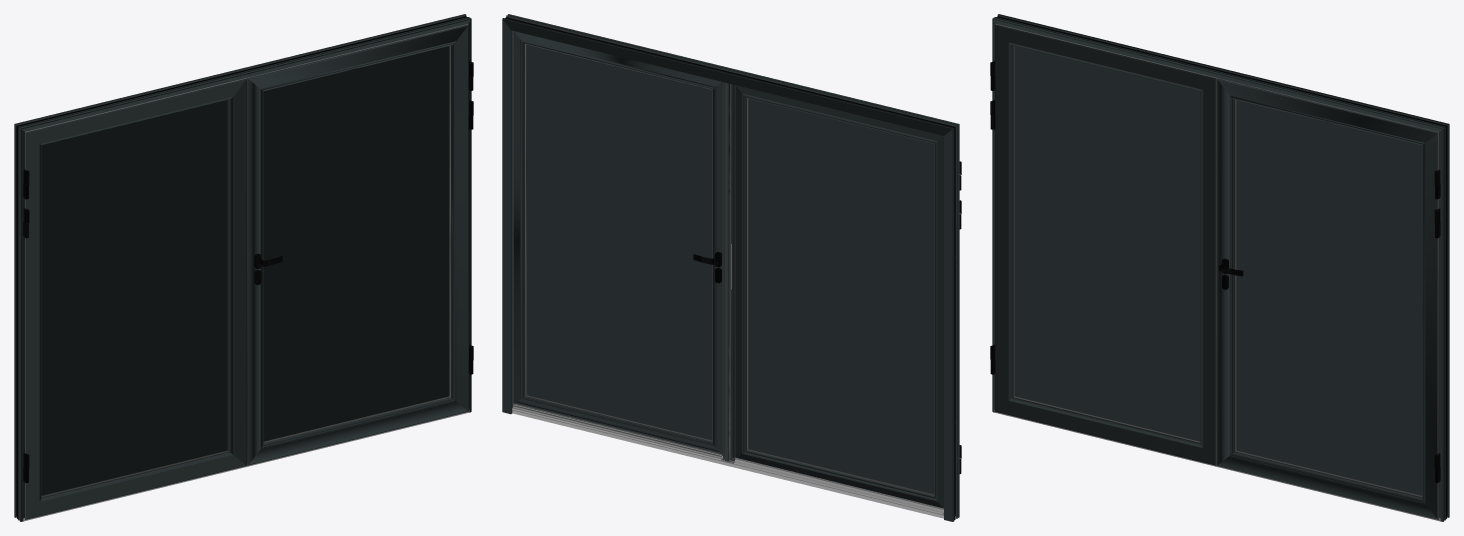
The picture shows the model from 3 angles, left to right: view 1: azimuth 30°, elevation 25°; view 2: azimuth 150°, elevation 25°; view 3: azimuth 330°, elevation 25°; orthographic projection.
Parts seen in each view (by area): view 1: ouvrant22, ouvrant11, onduline2; view 2: ouvrant22, ouvrant11, onduline2; view 3: ouvrant22, ouvrant11, onduline2.
Boxes of the visible parts, left/top/right/bottom form: ouvrant22: left=23, top=78, right=247, bottom=519; ouvrant11: left=246, top=23, right=473, bottom=465; onduline2: left=14, top=14, right=473, bottom=521; ouvrant22: left=723, top=82, right=961, bottom=514; ouvrant11: left=512, top=31, right=734, bottom=460; onduline2: left=502, top=14, right=961, bottom=521; ouvrant22: left=990, top=23, right=1217, bottom=465; ouvrant11: left=1217, top=78, right=1440, bottom=519; onduline2: left=990, top=14, right=1449, bottom=521.
Size of the model in its own units: 240 by 200 by 16.63.
1 material, 1 textured.
